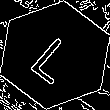L_NE: (25, 25, 85, 85)
